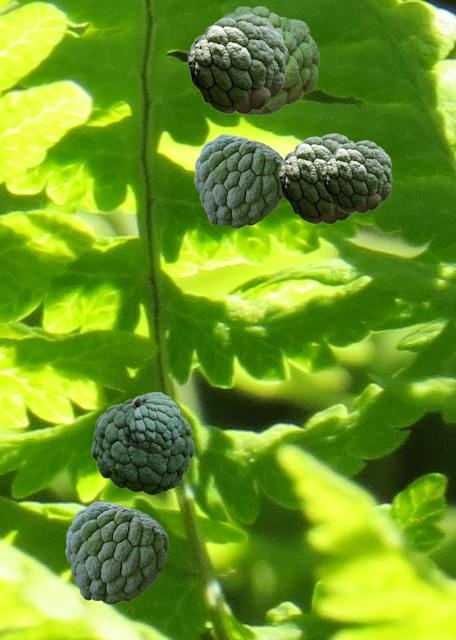atis: (65, 501, 167, 603), (222, 6, 318, 114), (91, 397, 193, 494), (187, 14, 285, 113), (194, 134, 283, 227), (278, 133, 354, 223), (321, 140, 391, 212), (123, 392, 180, 453)
